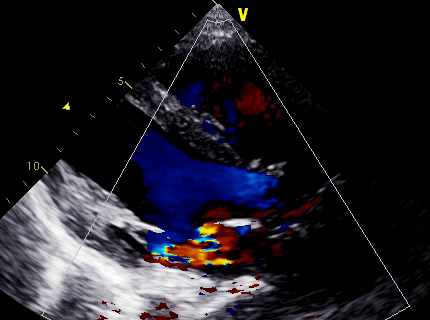MR: (168, 217, 233, 280)
